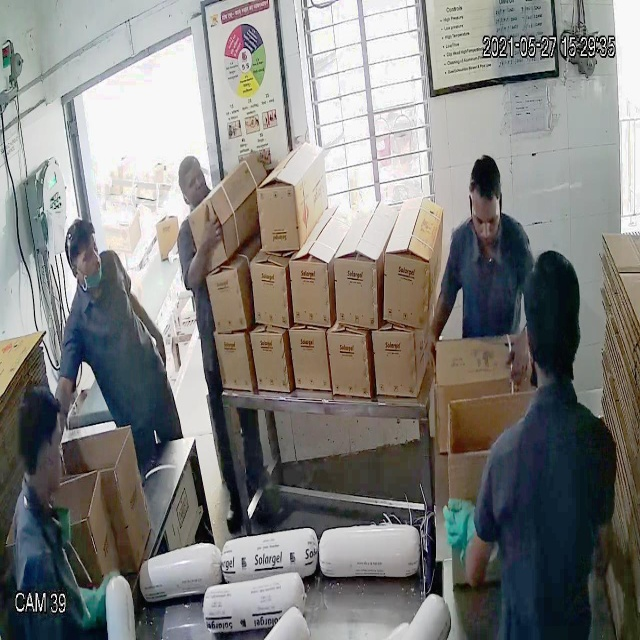Sin_gafas: (467, 201, 506, 235), (69, 239, 106, 265)
